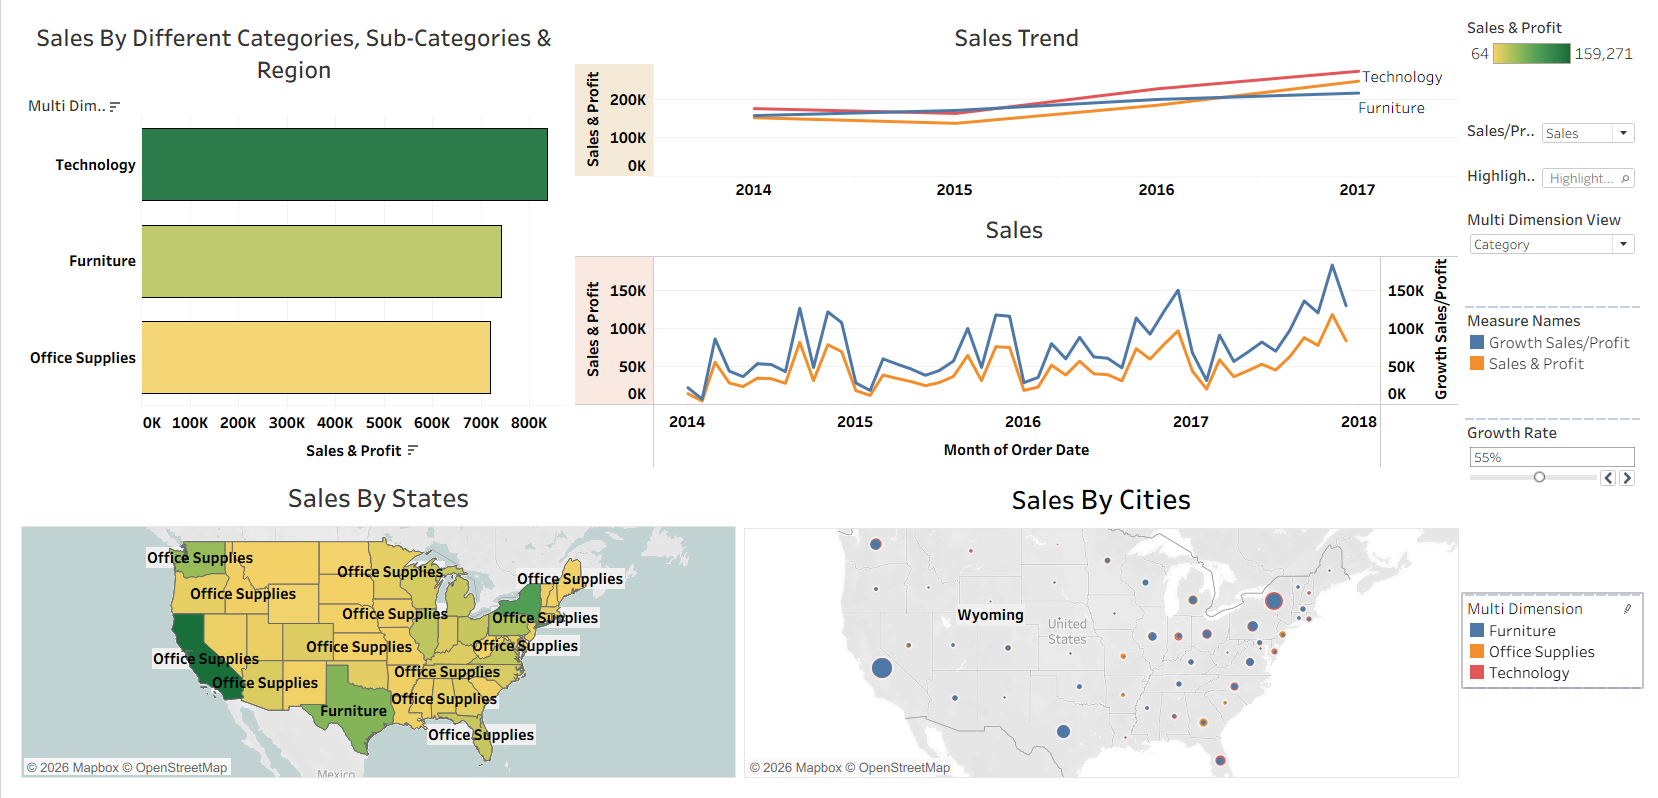

The dashboard page shown, as its layout file describes it:
{"tool":"tableau","page":{"name":"Dashboard 1","canvas":[1000,1000],"units":"permille","ordinal":0},"visuals":[{"type":"worksheet","title":"Sales /Profit by Different Aspects","mark":"Automatic","rows":["Calculation_1508012900573185"],"cols":["Calculation_1508012909965314"],"box":[9.7,20,334.1,573]},{"type":"worksheet","title":"Sales/Profit Trend","mark":"Automatic","rows":["Calculation_1508012909965314"],"cols":["Order Date"],"box":[343.7,20,538.6,239.7]},{"type":"legend","title":"Sales & Profit by States","param":"[federated.1mzikjb1et47eb11zab0a1lnrejq].[sum:Calculation_1508012909965314:qk]","box":[882.3,20,108,128.6]},{"type":"parameter","param":"[Parameters].[Parameter 2]","box":[882.3,148.6,108,55.6]},{"type":"highlighter","title":"Sales /Profit by Different Aspects","param":"[federated.1mzikjb1et47eb11zab0a1lnrejq].[none:Calculation_1508012900573185:nk]","box":[882.3,204.1,108,55.6]},{"type":"worksheet","title":"Sales/Profit Change","mark":"Automatic","rows":["Calculation_1508012909965314","Calculation_1508012936138755"],"cols":["Order Date"],"box":[343.7,259.7,538.6,333.3]},{"type":"parameter","param":"[Parameters].[Parameter 1]","box":[882.3,259.7,108,126.1]},{"type":"legend","title":"Sales/Profit Change","param":"[federated.1mzikjb1et47eb11zab0a1lnrejq].[:Measure Names]","box":[882.3,385.8,108,139.8]},{"type":"parameter","param":"[Parameters].[Parameter 3]","box":[882.3,525.6,108,219.7]},{"type":"worksheet","title":"Sales & Profit by States","mark":"Automatic","box":[9.7,593,436.3,387]},{"type":"worksheet","title":"Sales & Profit by Cities","mark":"Automatic","box":[446,593,436.3,387]},{"type":"legend","title":"Sales & Profit by Cities","param":"[federated.1mzikjb1et47eb11zab0a1lnrejq].[none:Calculation_1508012900573185:nk]","box":[882.3,745.3,108,116.1]}]}

Visuals, with their boxes on the dashboard's canvas, which has no fixed pixel size, in thousandths of its width and height (x1, y1, x2, y2). These are canvas units, not pixel positions in the 1658x798 screenshot, which may show the page scaled, cropped or inside an application window:
"Sales /Profit by Different Aspects" worksheet: 10:20:344:593
"Sales/Profit Trend" worksheet: 344:20:882:260
"Sales & Profit by States" legend: 882:20:990:149
parameter: 882:149:990:204
"Sales /Profit by Different Aspects" highlighter: 882:204:990:260
"Sales/Profit Change" worksheet: 344:260:882:593
parameter: 882:260:990:386
"Sales/Profit Change" legend: 882:386:990:526
parameter: 882:526:990:745
"Sales & Profit by States" worksheet: 10:593:446:980
"Sales & Profit by Cities" worksheet: 446:593:882:980
"Sales & Profit by Cities" legend: 882:745:990:861
